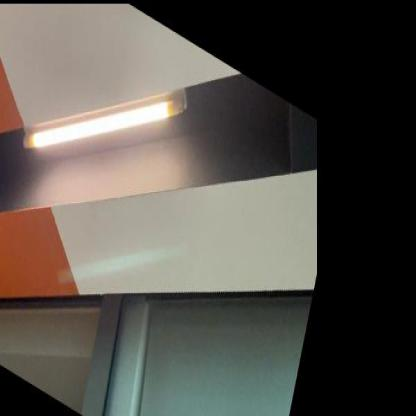light_on: (12, 1, 204, 272)
